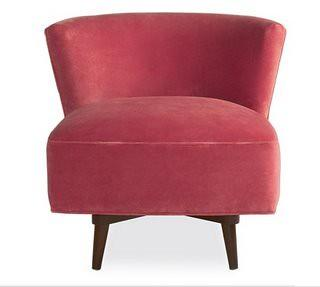chair: (44, 12, 287, 271)
